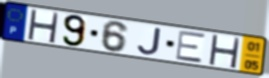6: (101, 19, 129, 53)
9: (60, 13, 89, 48)
E: (174, 30, 207, 64)
H: (26, 8, 61, 45), (207, 33, 242, 70)
J: (136, 26, 164, 57)
